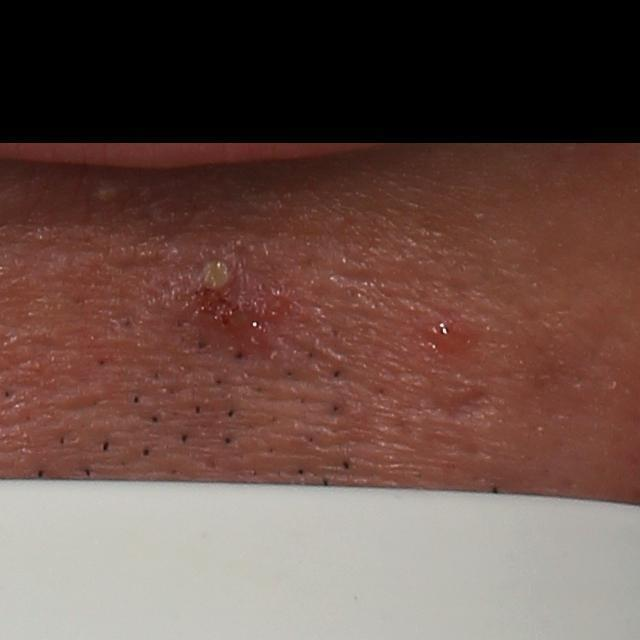atrophic_scar: (415, 380, 512, 433)
papule: (420, 311, 468, 355)
pustule: (168, 231, 275, 325), (85, 174, 134, 213)
